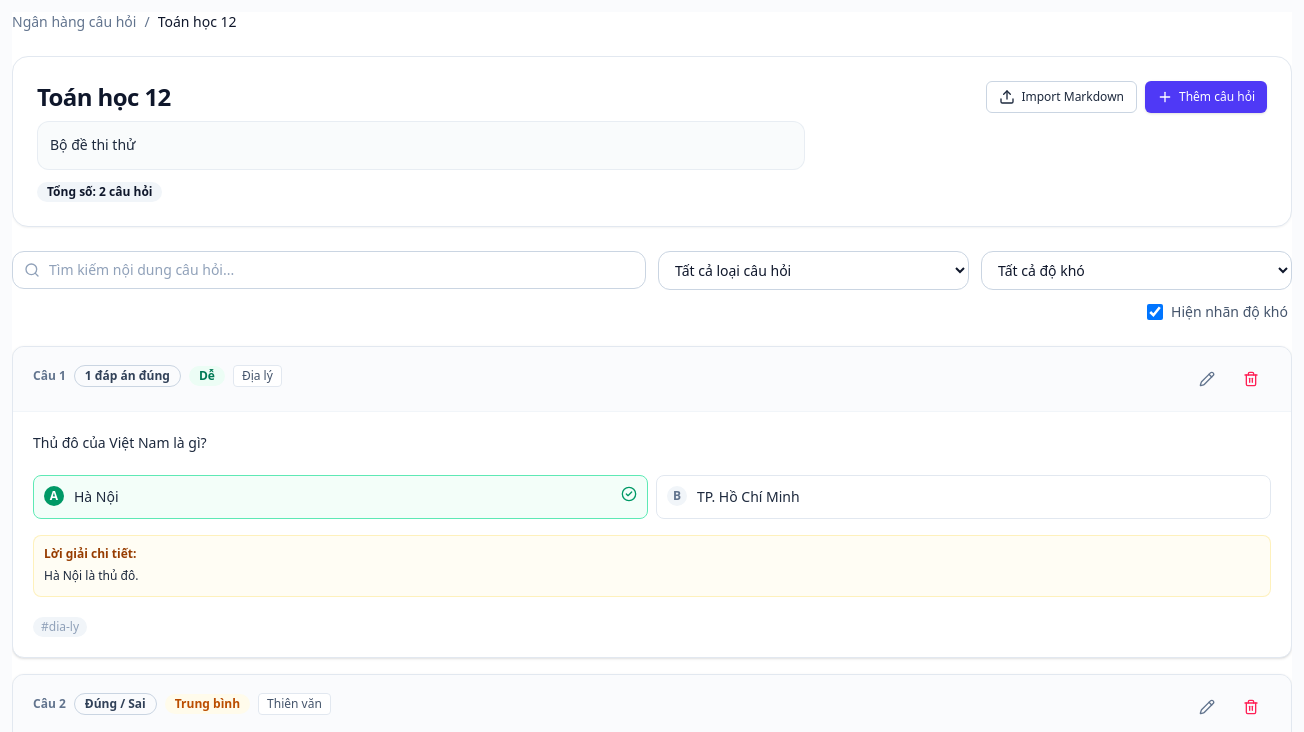
Scenario: Question Banks Feature Integration › QuestionBankDetailPage › renders bank details and questions list
This screenshot has width=1304, height=732.
Expected: the heading "Toán học 12" is shown, [37,80,171,113]
Expected: the text "Thủ đô của Việt Nam là gì?" is shown, [33,433,207,452]
Note: Khi tắt tùy chọn hiển thị
Click the checkbox labelled "Hiện nhãn độ khó". click: (1155, 312)
box: [1147,304,1163,320]
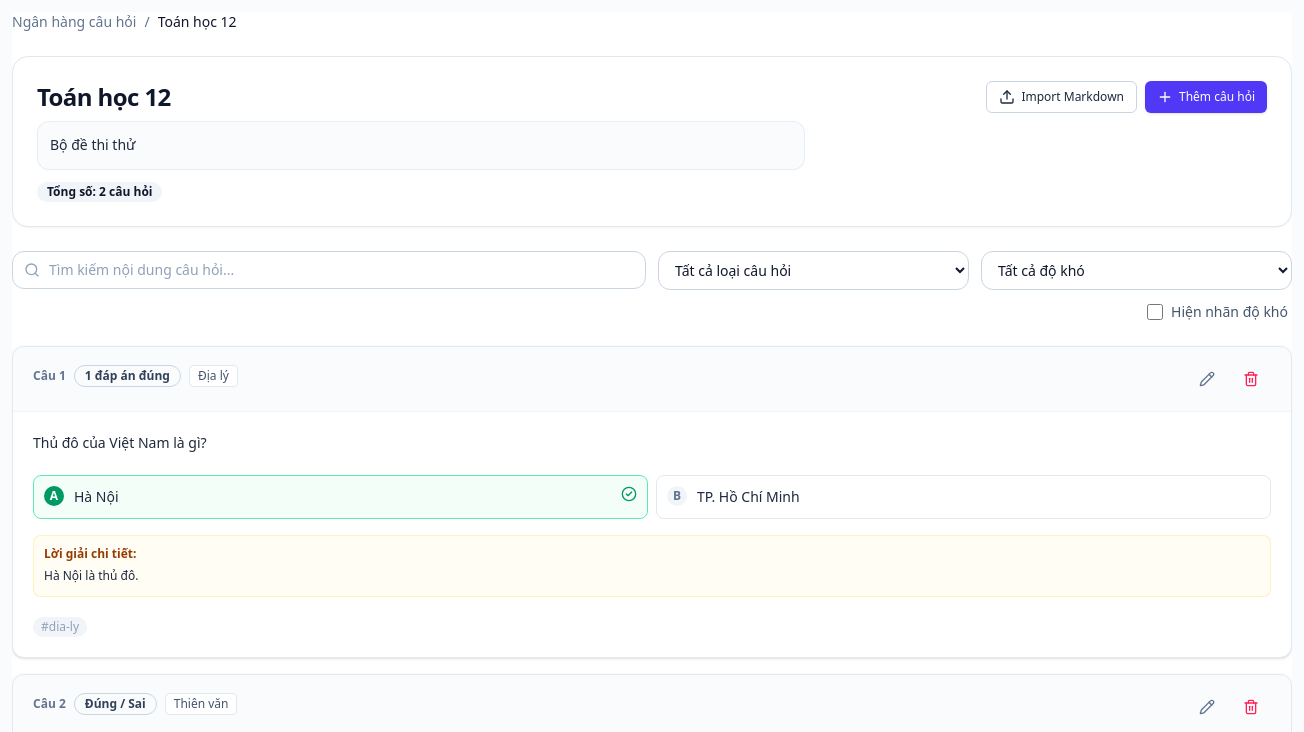
Expected: no elements with test id "difficulty-badge" are shown
